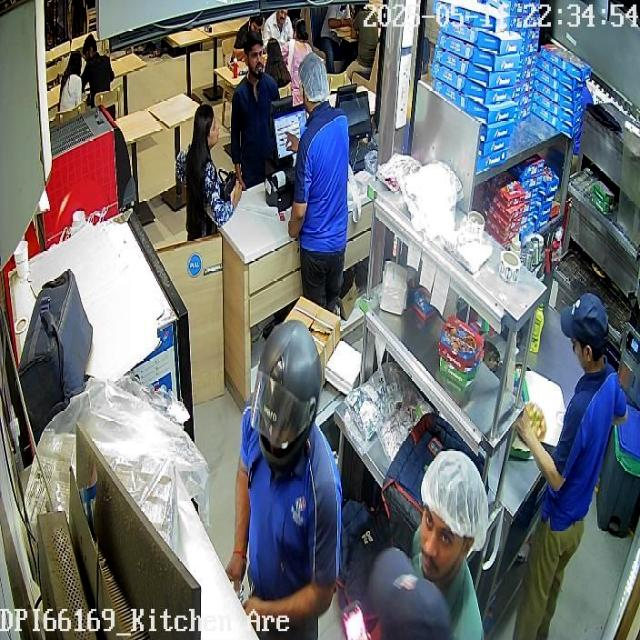helmet: (249, 319, 321, 471)
